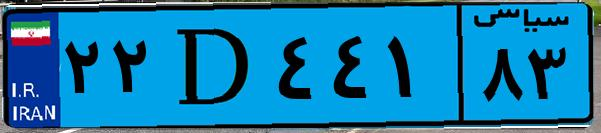1: (385, 28, 445, 110)
2: (57, 26, 110, 100), (110, 28, 158, 98)
3: (525, 38, 570, 115)
4: (270, 28, 330, 110), (330, 28, 385, 110)
8: (475, 38, 525, 113)
D: (158, 12, 270, 120)
